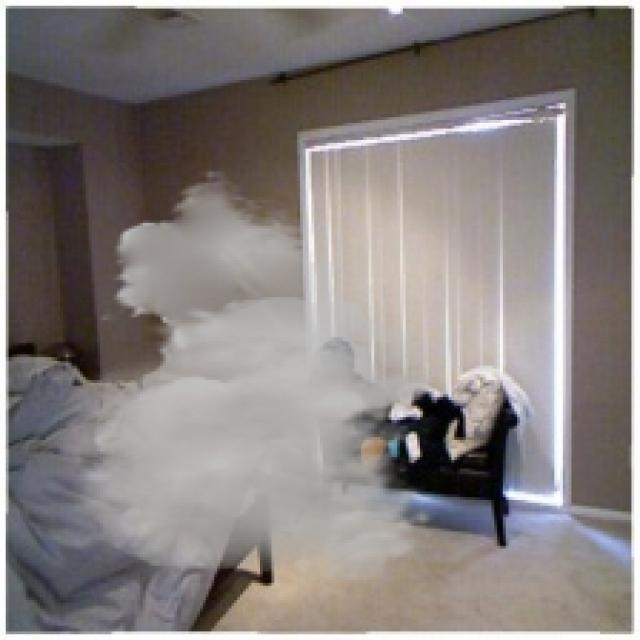Smoke: (26, 168, 440, 583)
